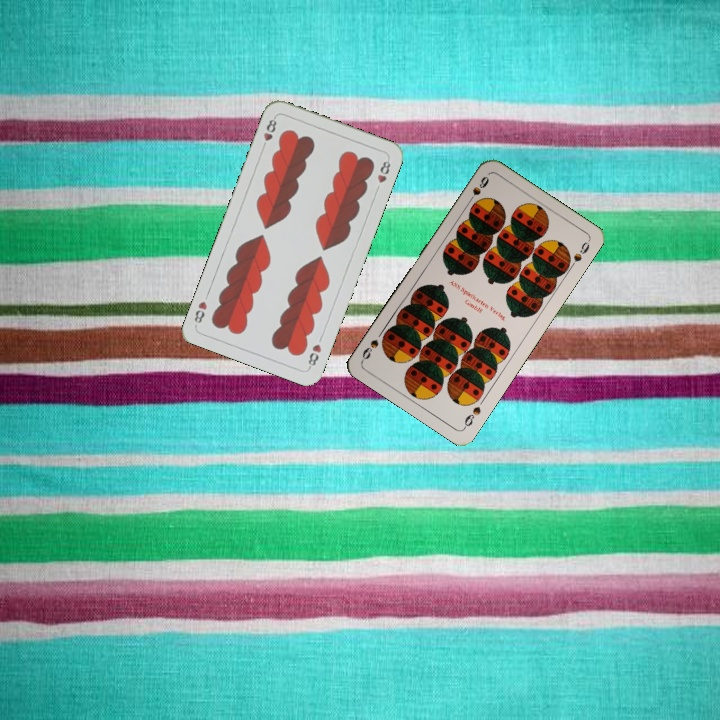H8: (258, 113, 279, 152), (304, 340, 324, 371)
S9: (463, 172, 492, 207), (460, 402, 484, 431)
